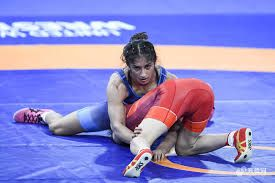fall: (106, 72, 255, 171)
